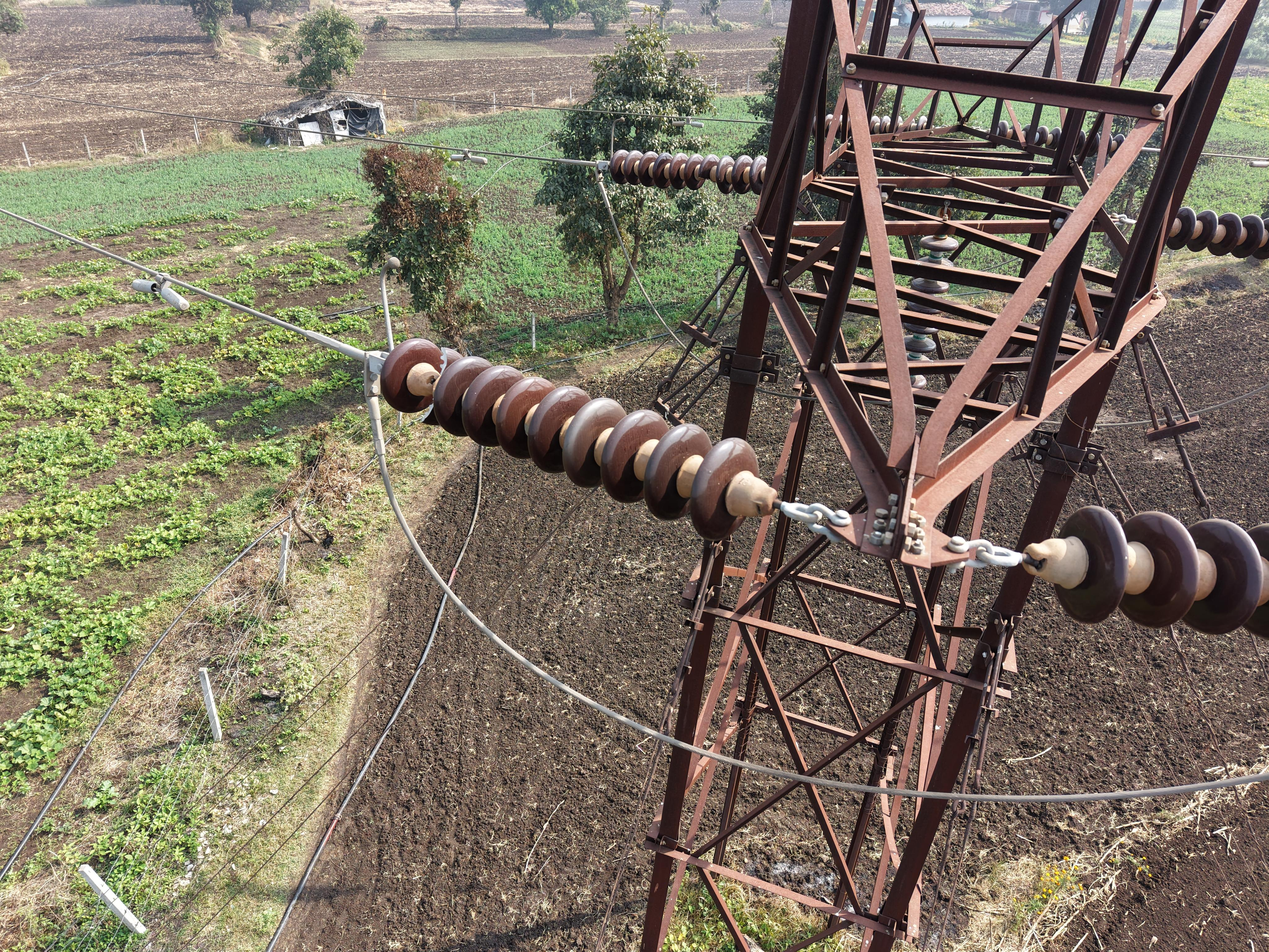broken_insulator: (417, 340, 460, 430), (698, 154, 719, 193)
